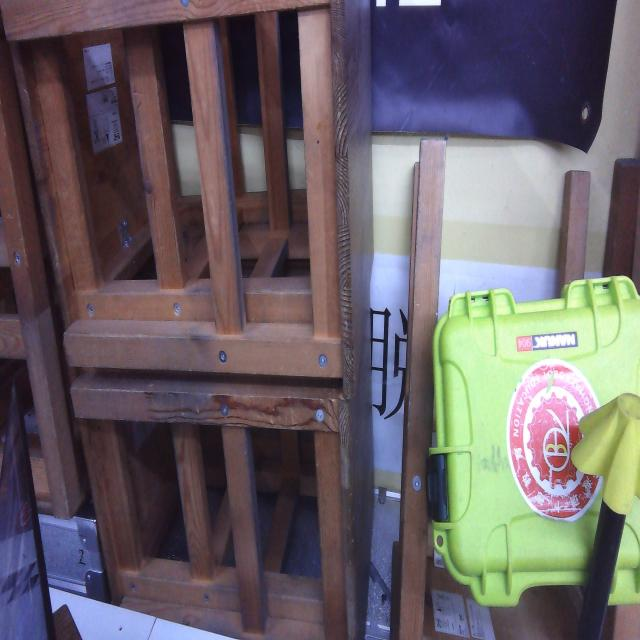Yellow-Stake-Head: (571, 392, 640, 515)
